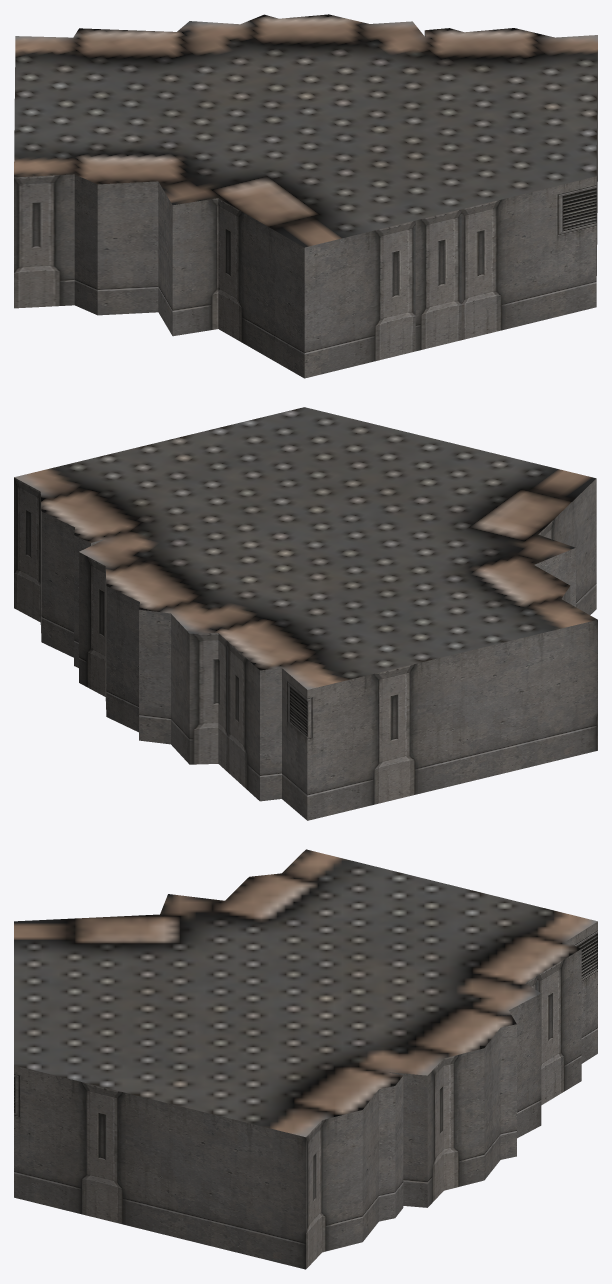
File: building_hard_a_44.glb
The picture shows the model from 3 angles, top to bottom: view 1: azimuth 30°, elevation 25°; view 2: azimuth 150°, elevation 25°; view 3: azimuth 270°, elevation 25°; orthographic projection.
Visible parts, largest first — view 1: buildings/saxarba/building_hard/building_hard_a_44; view 2: buildings/saxarba/building_hard/building_hard_a_44; view 3: buildings/saxarba/building_hard/building_hard_a_44.
Boxes of the visible parts, x1,y1,x2,y2 form: buildings/saxarba/building_hard/building_hard_a_44: [14, 14, 597, 378]; buildings/saxarba/building_hard/building_hard_a_44: [14, 407, 597, 820]; buildings/saxarba/building_hard/building_hard_a_44: [14, 849, 597, 1269].
Size of the model in its own units: 84 by 18 by 72.
